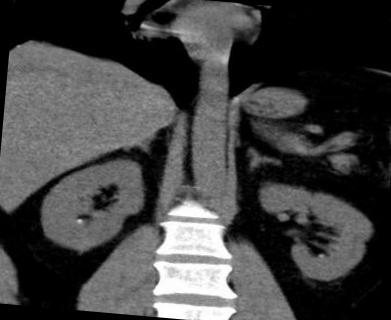Tas_Var: (74, 217, 86, 226), (316, 252, 324, 259)
